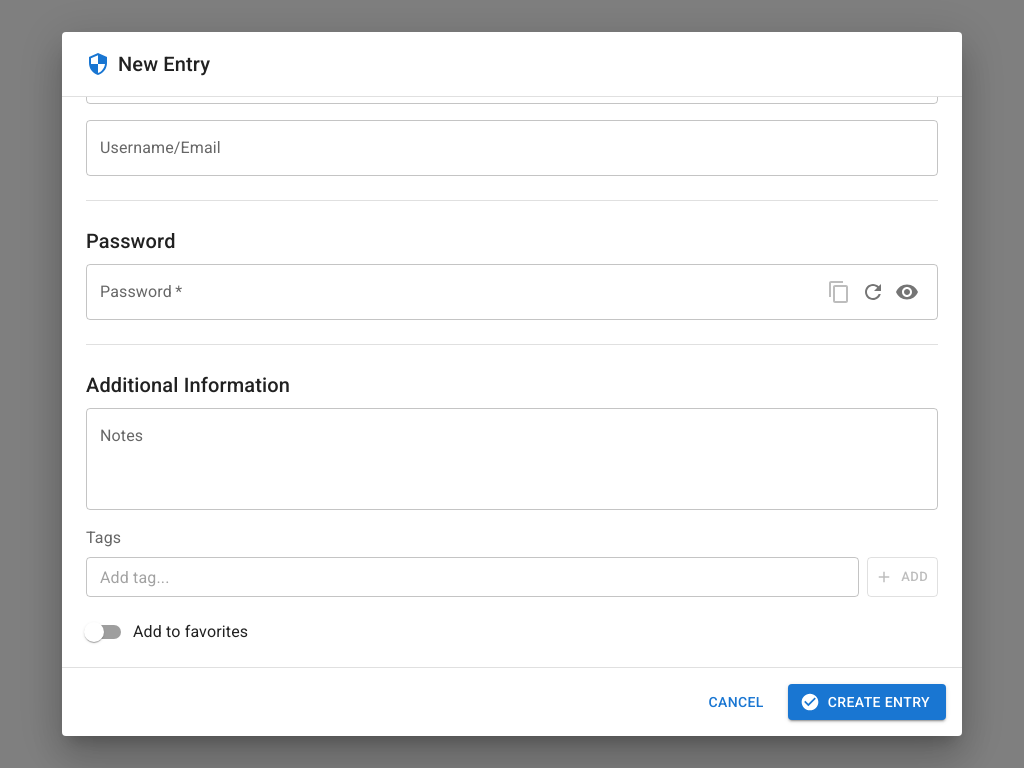
Test: VaultEntryForm › Tags Management › adds tags with Enter key
The width and height of the screenshot is (1024, 768).
(page scrolled)
In the field with placeholder "Add tag...": (473, 577) [86,557,859,597], type "important"
Then press Enter
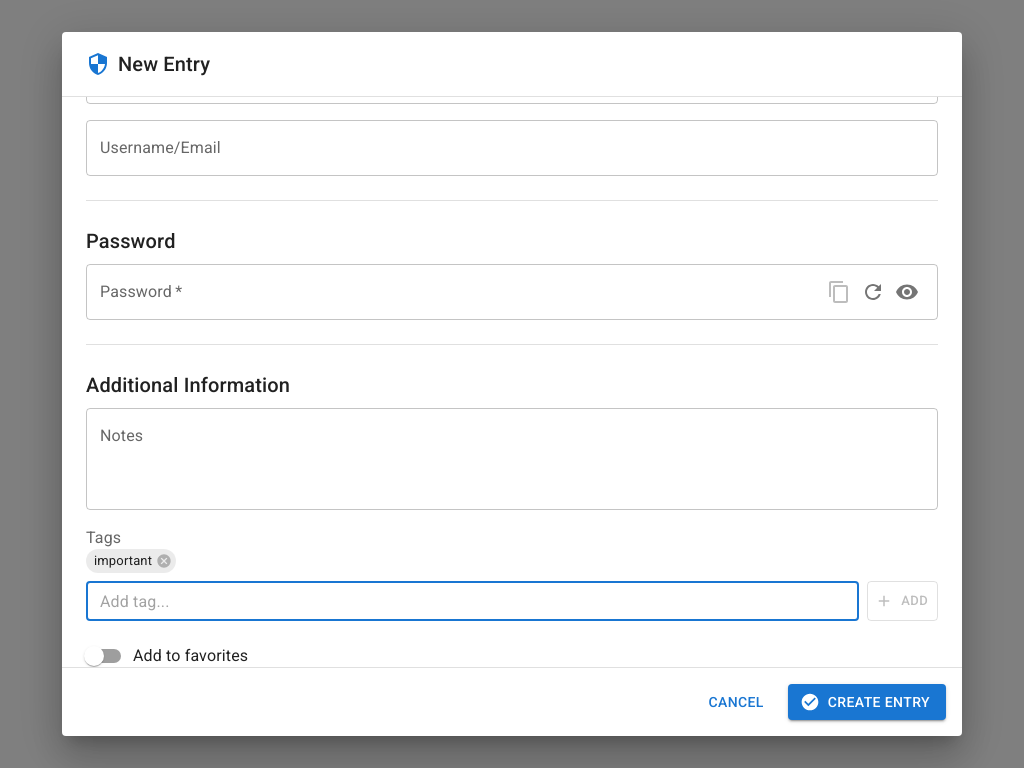
Expected: the field with placeholder "Add tag..." is empty, [86,581,859,621]
Result: the text "important" is shown at [94,553,152,568]
